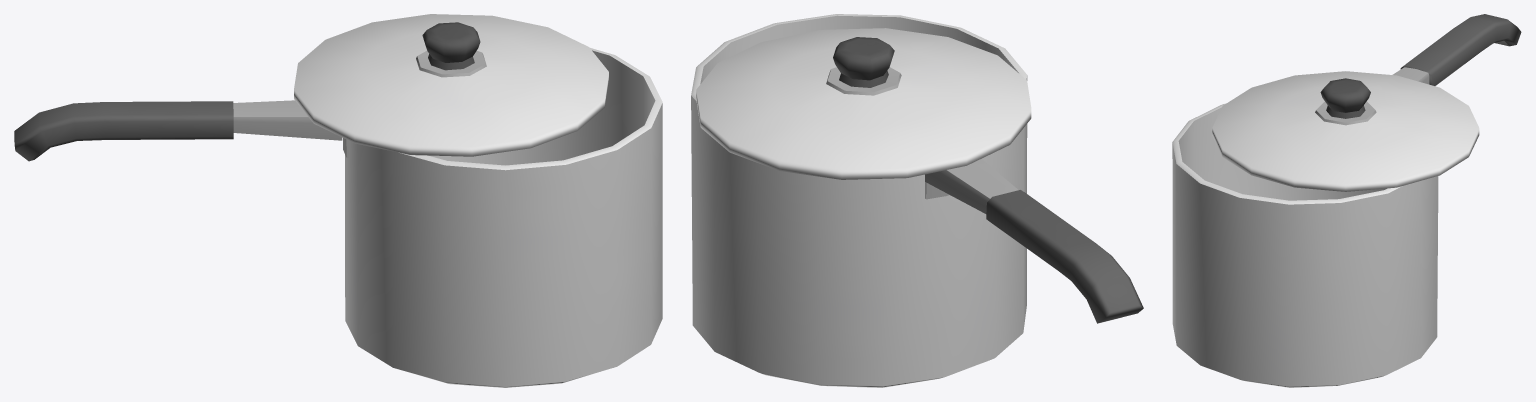
File: SM_Kitchen_Pot1.fbx
The picture shows the model from 3 angles, left to right: view 1: azimuth 30°, elevation 25°; view 2: azimuth 150°, elevation 25°; view 3: azimuth 270°, elevation 25°; orthographic projection. The views are drawn at different scales.
Parts seen in each view (by area): view 1: SM_Kitchen_Pot1; view 2: SM_Kitchen_Pot1; view 3: SM_Kitchen_Pot1.
Boxes of the visible parts, x1,y1,x2,y2 form: SM_Kitchen_Pot1: (14, 14, 662, 387); SM_Kitchen_Pot1: (691, 14, 1143, 387); SM_Kitchen_Pot1: (1172, 14, 1521, 387).
Bounding box in the file's own units: 0.5243 × 0.2763 × 0.367.
